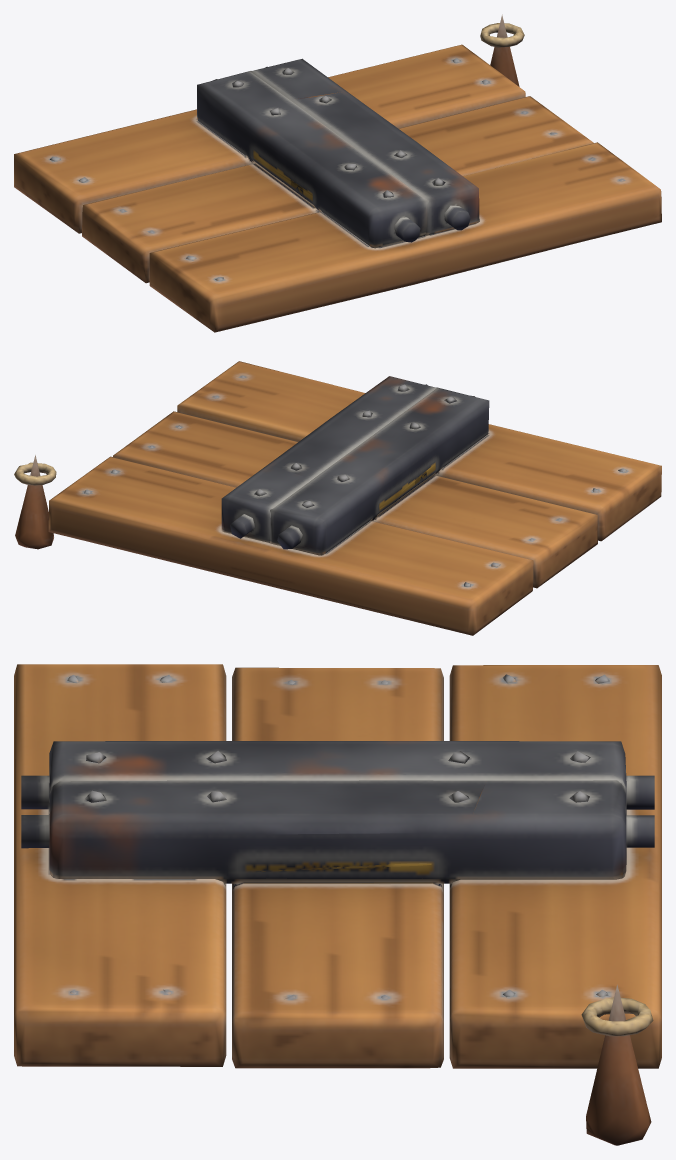
File: snap_trap_base.glb
3 renders of one model, top to bottom at view 1: azimuth 30°, elevation 25°; view 2: azimuth 150°, elevation 25°; view 3: azimuth 270°, elevation 25°, orthographic. The views are drawn at different scales.
Visible parts, largest first — view 1: snap_trap_base; view 2: snap_trap_base; view 3: snap_trap_base.
Part boxes in pixels (left/top/right/bottom): snap_trap_base: left=14, top=14, right=661, bottom=332; snap_trap_base: left=14, top=361, right=661, bottom=635; snap_trap_base: left=14, top=664, right=661, bottom=1145.
Bounding box in the file's own units: 0.9882 × 0.1987 × 0.696.
1 material, 1 textured.
